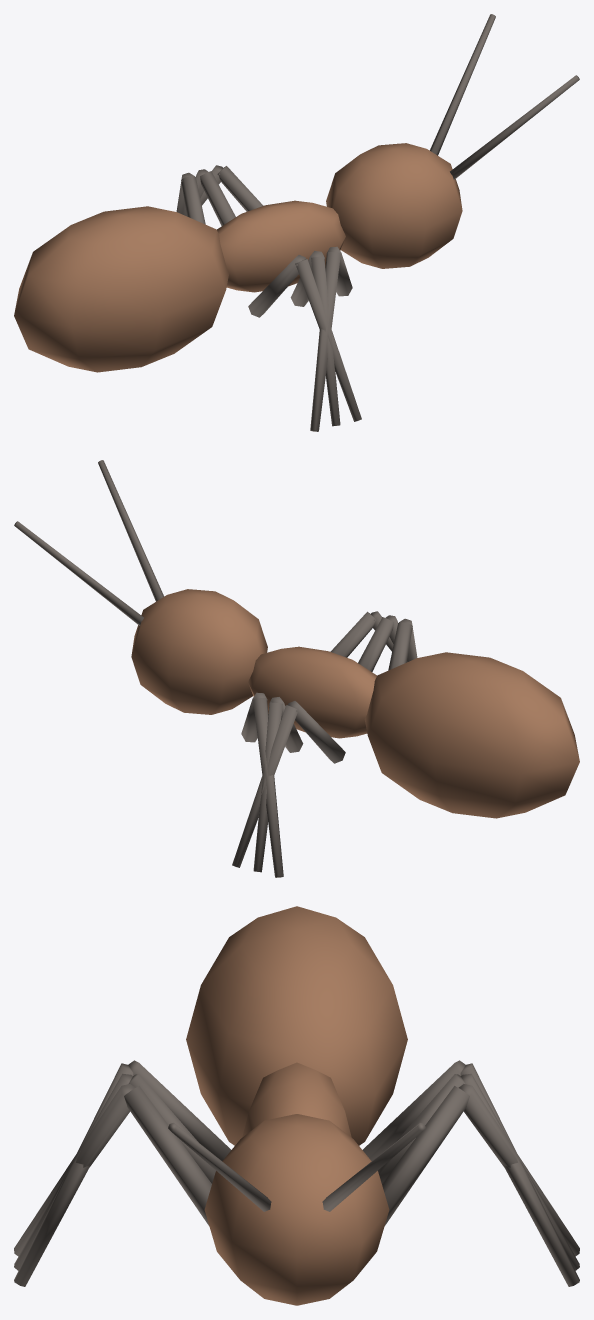
Rendered from two-spined-hard-ant.glb.
3 renders of one model, top to bottom at view 1: azimuth 30°, elevation 25°; view 2: azimuth 150°, elevation 25°; view 3: azimuth 270°, elevation 25°, orthographic. The views are drawn at different scales.
Parts seen in each view (by area): view 1: e; view 2: e; view 3: e.
Part boxes in pixels (x1=…): e: x1=14, y1=14, x2=579, y2=431; e: x1=14, y1=460, x2=579, y2=877; e: x1=14, y1=906, x2=579, y2=1305.
Size of the model in its own units: 0.2409 by 0.1069 by 0.153.
